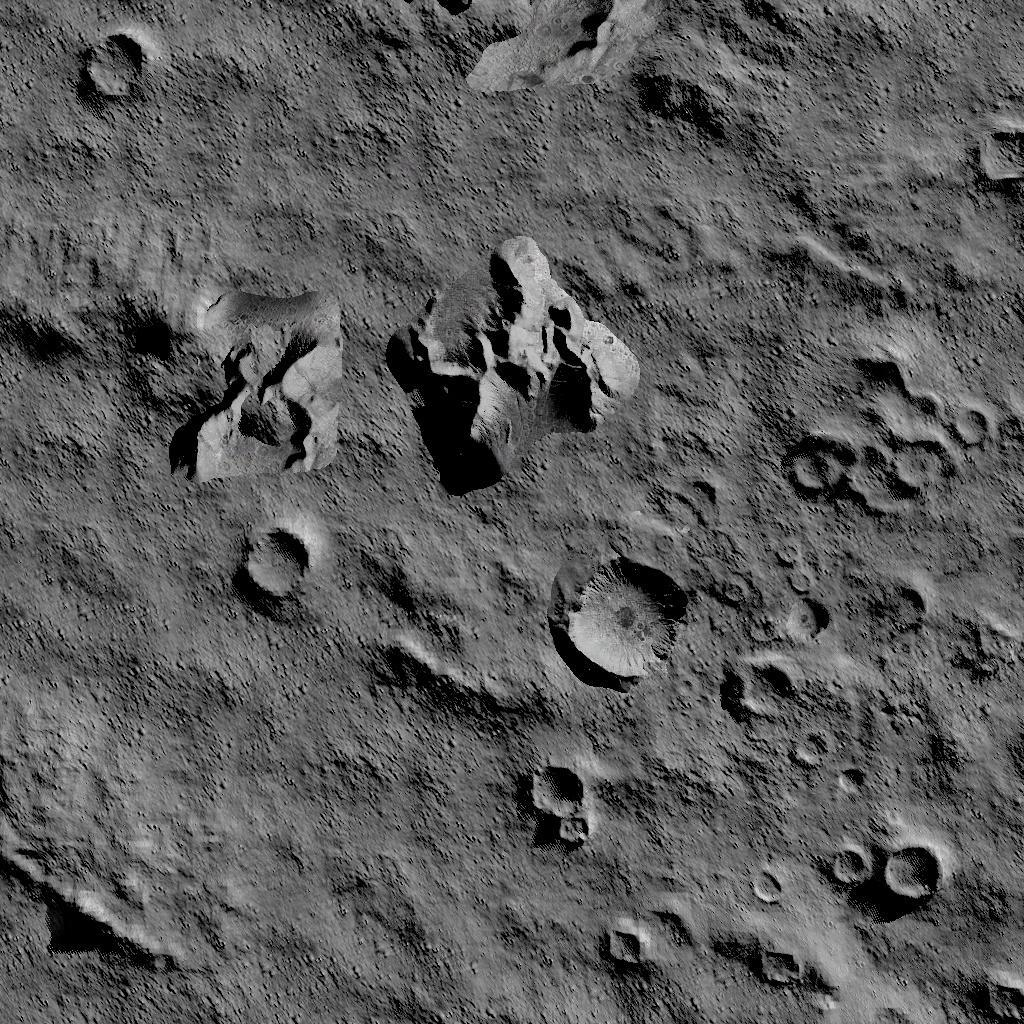Boulders: (0, 224, 345, 486), (357, 0, 830, 154), (381, 236, 641, 500), (350, 538, 537, 738), (746, 182, 944, 320), (0, 834, 180, 983)
Crater: (754, 354, 992, 526), (549, 548, 689, 700), (721, 595, 838, 770), (224, 514, 328, 626), (61, 16, 166, 122), (811, 834, 937, 912), (517, 760, 598, 858), (957, 118, 1024, 206), (746, 928, 812, 996), (857, 576, 926, 638), (967, 972, 1024, 1024), (594, 918, 648, 972)
Plan surface: (221, 758, 497, 1024), (0, 502, 208, 822), (182, 0, 340, 212), (847, 4, 1024, 108), (221, 636, 337, 750)
